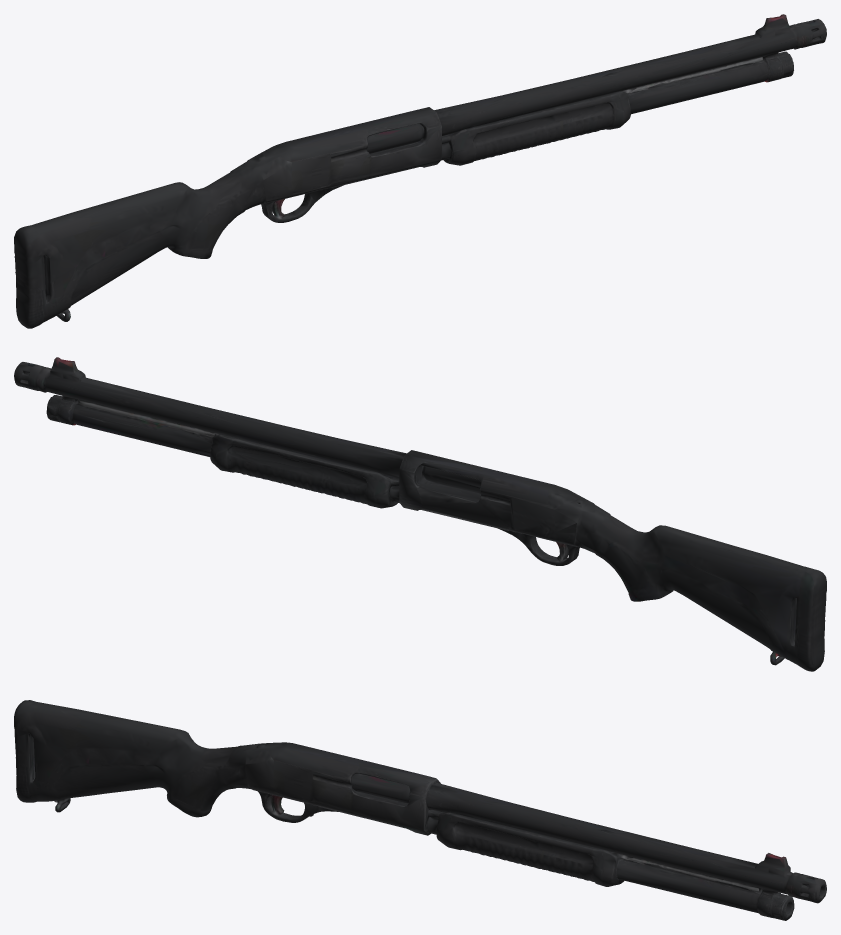
The model's file is shotgun.glb.
3 renders of one model, top to bottom at view 1: azimuth 30°, elevation 25°; view 2: azimuth 150°, elevation 25°; view 3: azimuth 330°, elevation 25°, orthographic.
Parts seen in each view (by area): view 1: shotgun; view 2: shotgun; view 3: shotgun.
Boxes of the visible parts, <box> form: shotgun: <box>14,14,826,328</box>; shotgun: <box>14,357,826,671</box>; shotgun: <box>14,700,826,920</box>.
Bounding box in the file's own units: 1 × 0.153 × 0.0489.
1 material, 1 textured.
